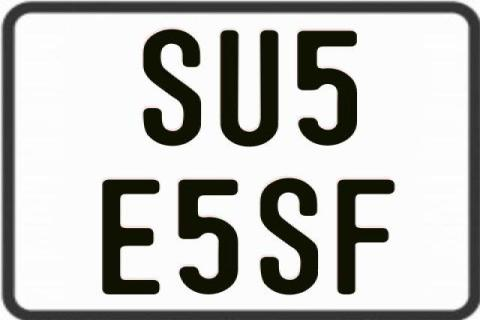0: (294, 29, 358, 147), (178, 177, 239, 296)
E: (102, 179, 163, 296)
F: (335, 179, 398, 299)
S: (260, 177, 322, 293), (142, 29, 200, 149)
U: (218, 29, 276, 145)
